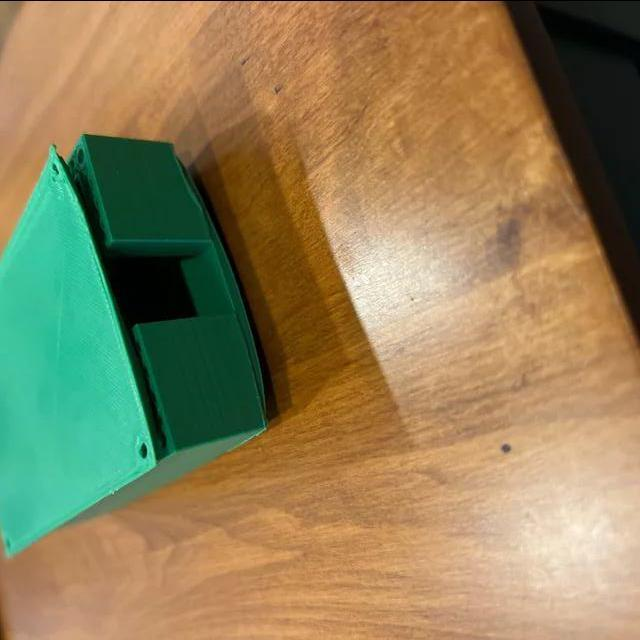Warping: (44, 144, 84, 206), (161, 135, 193, 189), (250, 387, 280, 432)
